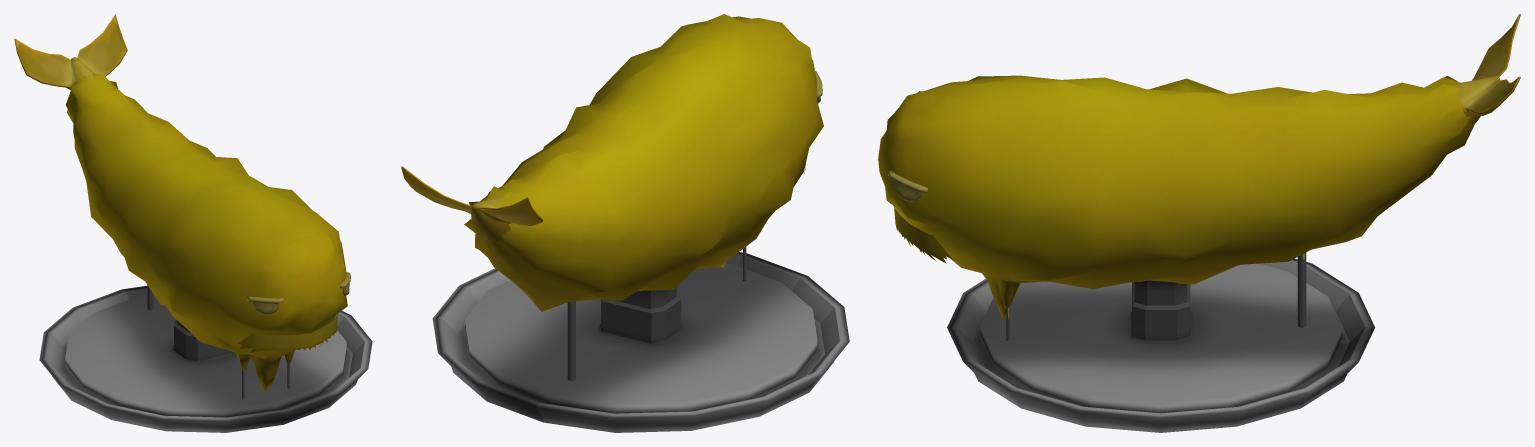
File: statue01.fbx
The picture shows the model from 3 angles, left to right: view 1: azimuth 30°, elevation 25°; view 2: azimuth 150°, elevation 25°; view 3: azimuth 270°, elevation 25°; orthographic projection. The views are drawn at different scales.
Parts seen in each view (by area): view 1: shrimpcloth, base, shrimpbody, beard, eyes; view 2: shrimpcloth, base, shrimpbody, pole2; view 3: shrimpcloth, base, shrimpbody, beard, pole2, eyes.
Part boxes in pixels (x1=…): shrimpcloth: x1=65, y1=73, x2=347, y2=391; base: x1=39, y1=286, x2=372, y2=432; shrimpbody: x1=14, y1=14, x2=127, y2=90; beard: x1=238, y1=313, x2=337, y2=353; eyes: x1=247, y1=272, x2=350, y2=314; shrimpcloth: x1=464, y1=14, x2=823, y2=311; base: x1=432, y1=252, x2=849, y2=432; shrimpbody: x1=401, y1=166, x2=542, y2=242; pole2: x1=567, y1=301, x2=575, y2=380; shrimpcloth: x1=878, y1=75, x2=1476, y2=318; base: x1=947, y1=258, x2=1374, y2=432; shrimpbody: x1=1452, y1=14, x2=1520, y2=123; beard: x1=894, y1=208, x2=952, y2=263; pole2: x1=1297, y1=252, x2=1306, y2=327; eyes: x1=888, y1=171, x2=927, y2=201.
Size of the model in its own units: 235 by 184 by 352.
Materials: 2 (2 with a texture image).
